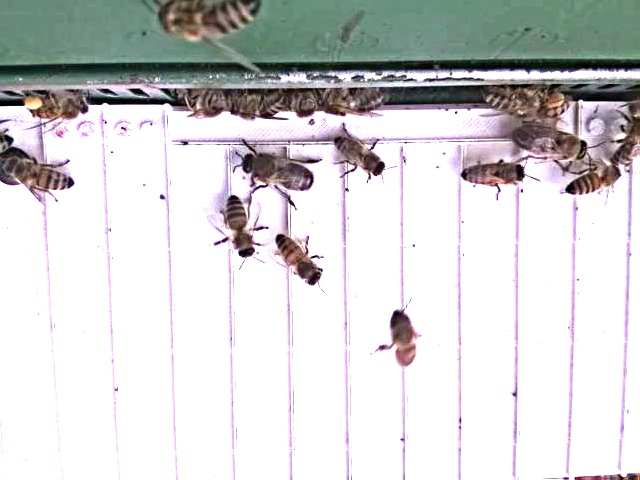Drone: (239, 149, 319, 196), (511, 120, 591, 166)
Worker: (4, 150, 81, 201), (166, 1, 264, 36), (274, 231, 328, 290), (332, 133, 390, 181), (562, 162, 625, 203), (224, 195, 260, 264), (483, 84, 549, 118), (460, 160, 529, 192)
